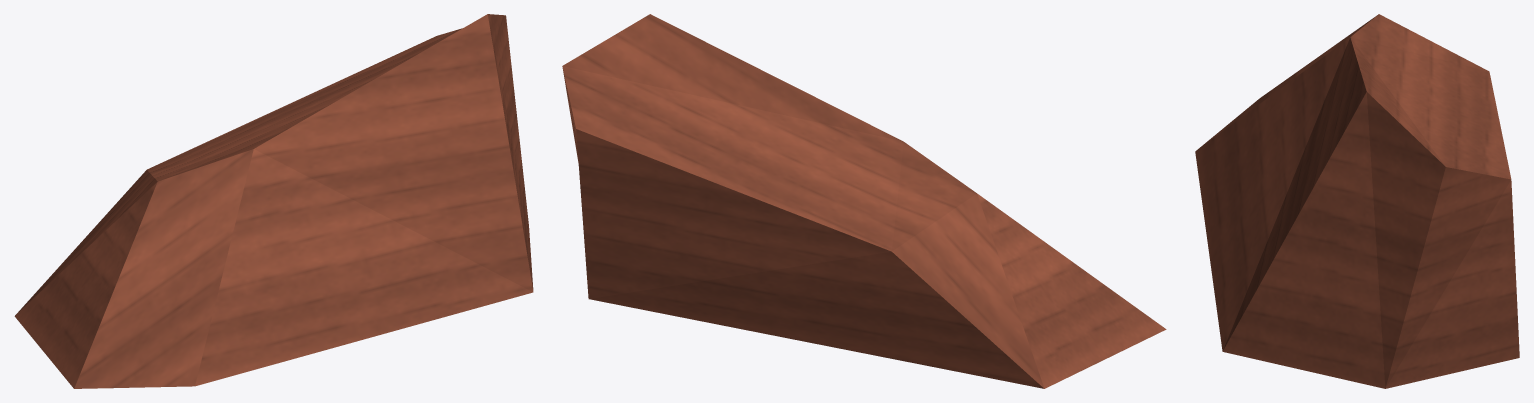
Rendered from outcrop_raised_bedding_LOD1.glb.
The picture shows the model from 3 angles, left to right: view 1: azimuth 30°, elevation 25°; view 2: azimuth 150°, elevation 25°; view 3: azimuth 270°, elevation 25°; orthographic projection. The views are drawn at different scales.
Visible parts, largest first — view 1: outcrop_raised_bedding_LOD1; view 2: outcrop_raised_bedding_LOD1; view 3: outcrop_raised_bedding_LOD1.
Boxes of the visible parts, <box> form: outcrop_raised_bedding_LOD1: <box>14,14,533,388</box>; outcrop_raised_bedding_LOD1: <box>562,14,1166,388</box>; outcrop_raised_bedding_LOD1: <box>1195,14,1519,388</box>.
Size of the model in its own units: 2.75 by 1.18 by 1.29.
Materials: 1 (1 with a texture image).
